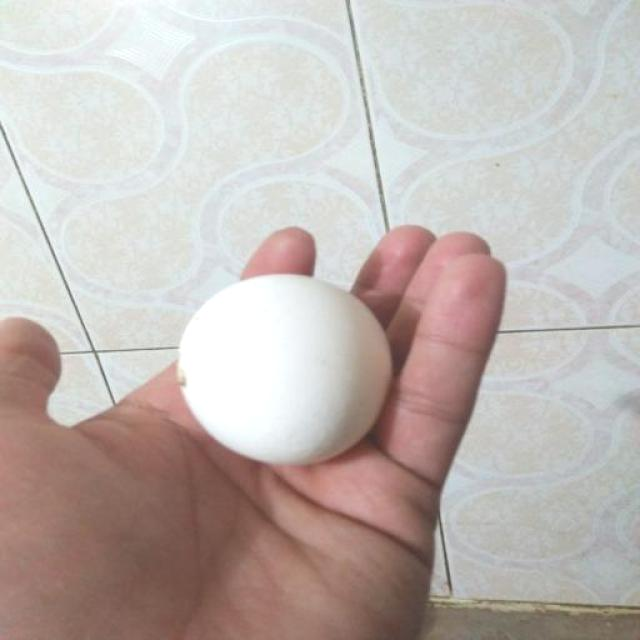telur: (177, 275, 392, 467)
